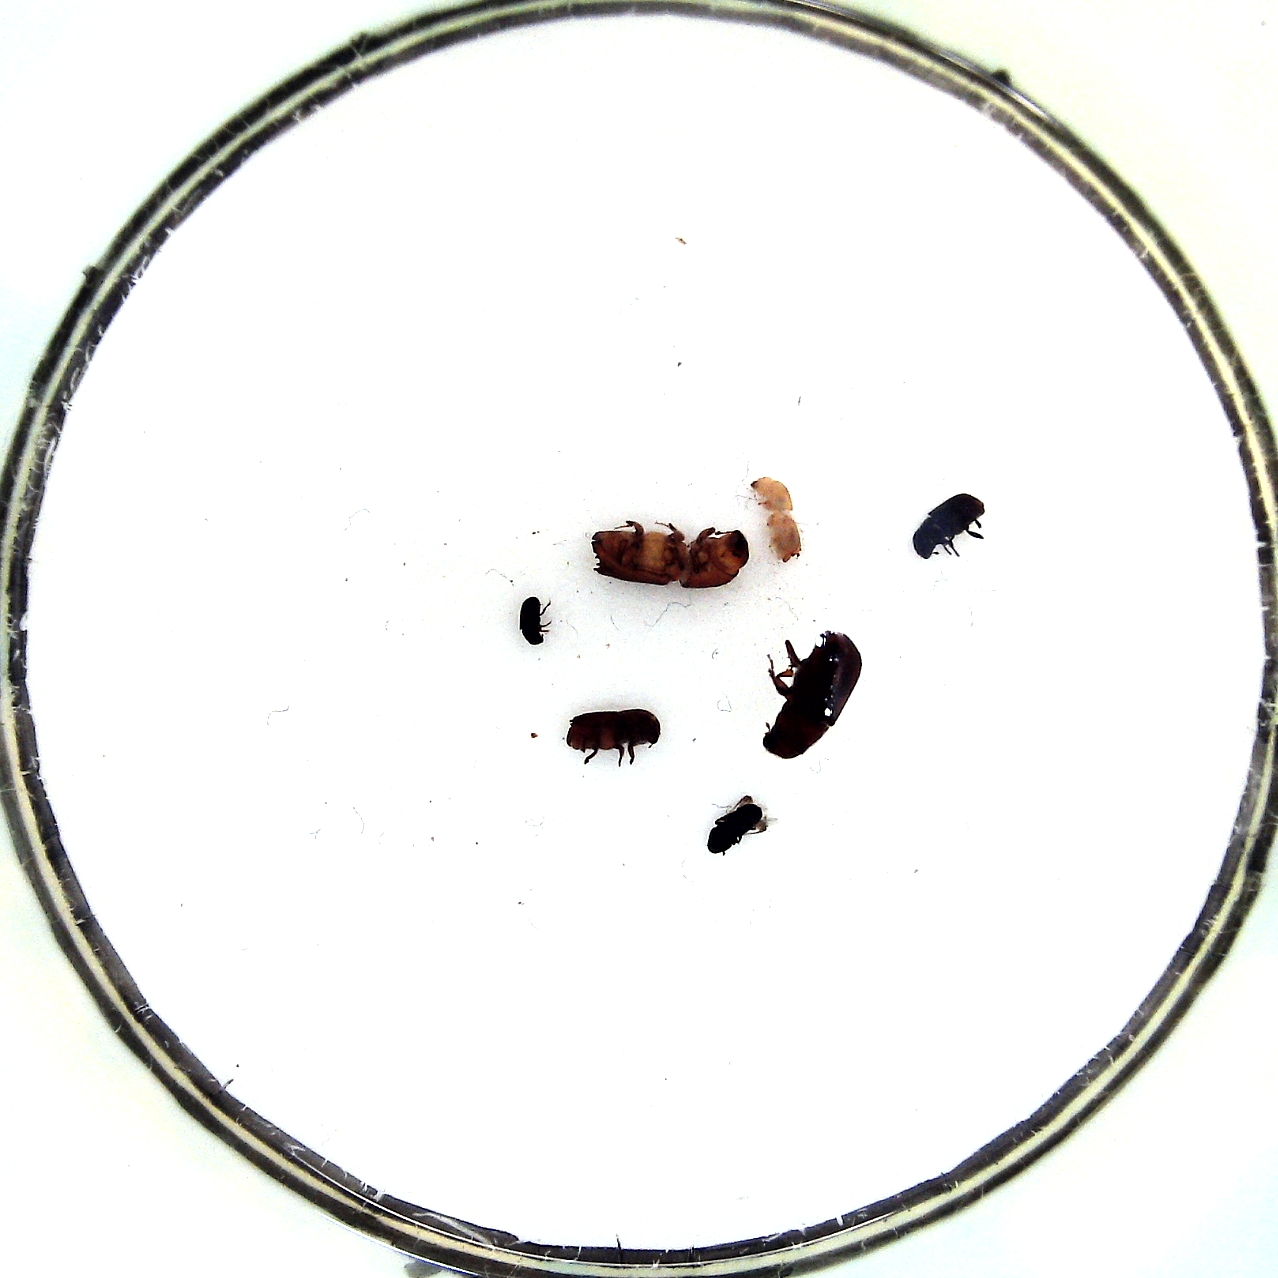Boerner: (584, 515, 754, 596)
Leconte: (754, 627, 870, 763)
Linnaeus: (561, 705, 667, 767)
acuminatus: (748, 473, 813, 566)
armandi: (908, 492, 990, 561)
coleoptera: (705, 791, 779, 856), (515, 589, 557, 648)
